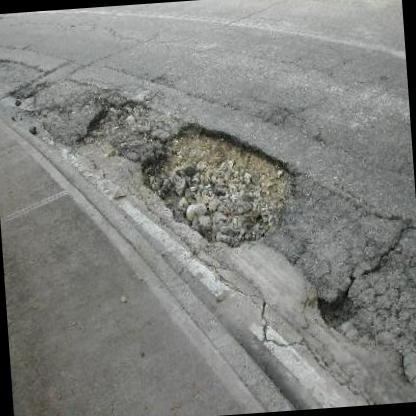pothole: (133, 109, 304, 257), (70, 93, 153, 148), (313, 285, 359, 329), (8, 78, 50, 114), (0, 51, 12, 73)
